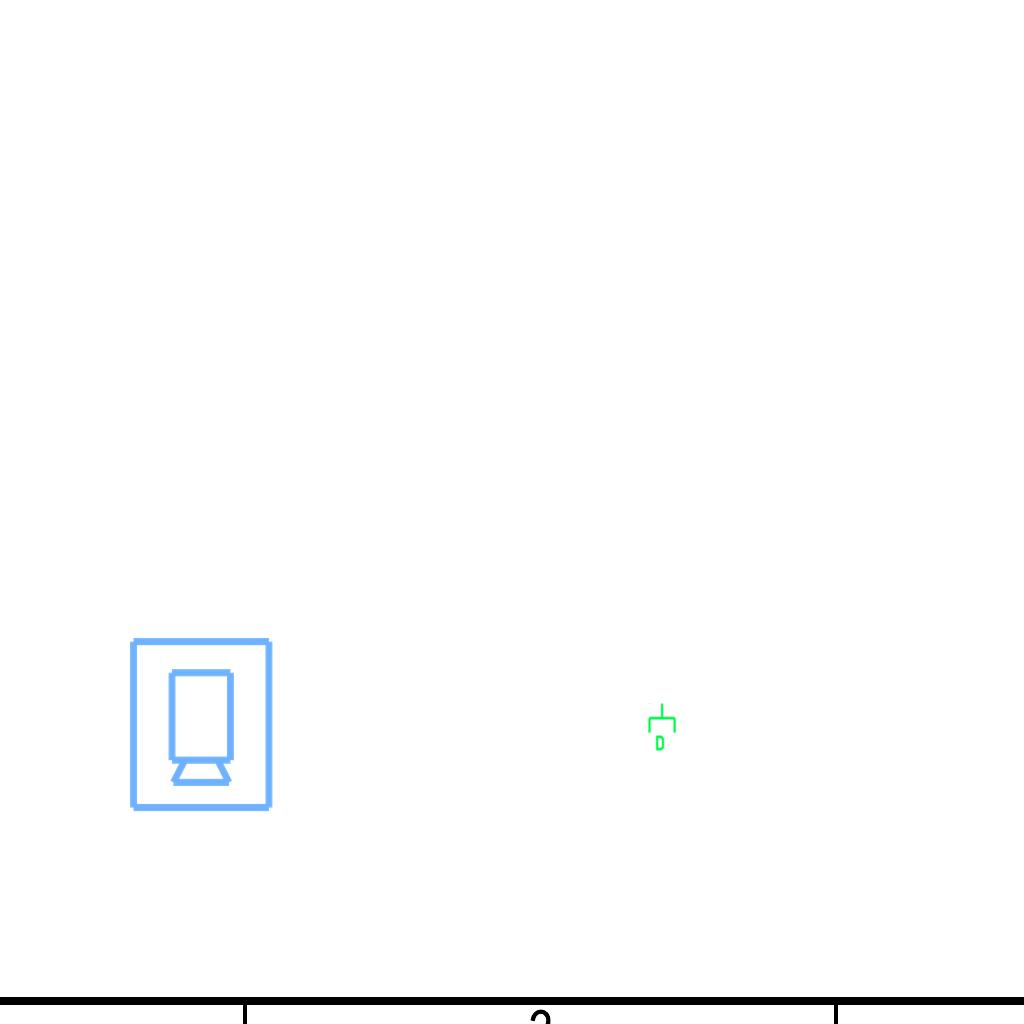Datenanschluss_einfach: (646, 702, 680, 752)
KFO_Kamera_mit_Festobjektiv: (123, 633, 277, 815)
